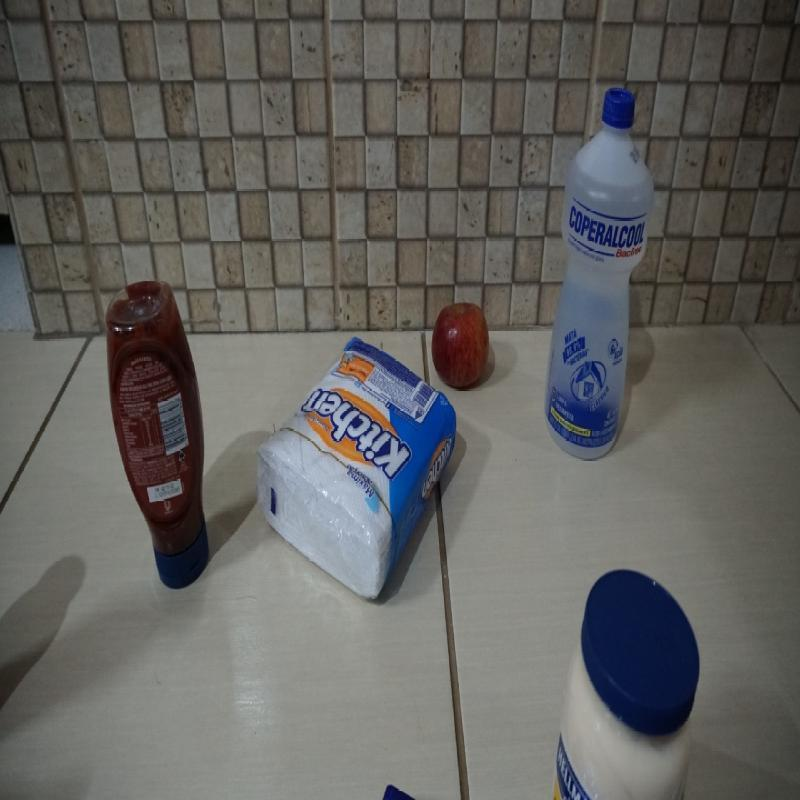Alcohol Bottle: (543, 84, 655, 463)
Apple: (432, 301, 489, 390)
Ketchup: (105, 280, 210, 591)
Mayonnaise: (547, 566, 702, 800)
Napkin: (254, 335, 457, 605)
